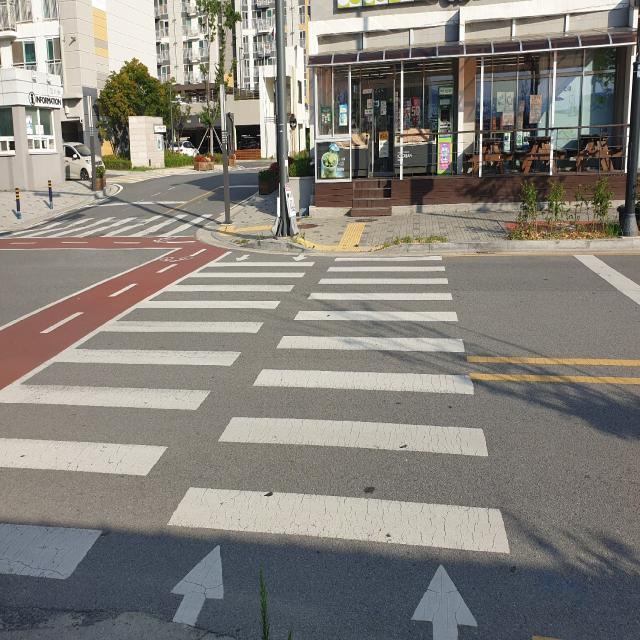횡단보도: (3, 246, 517, 632)
